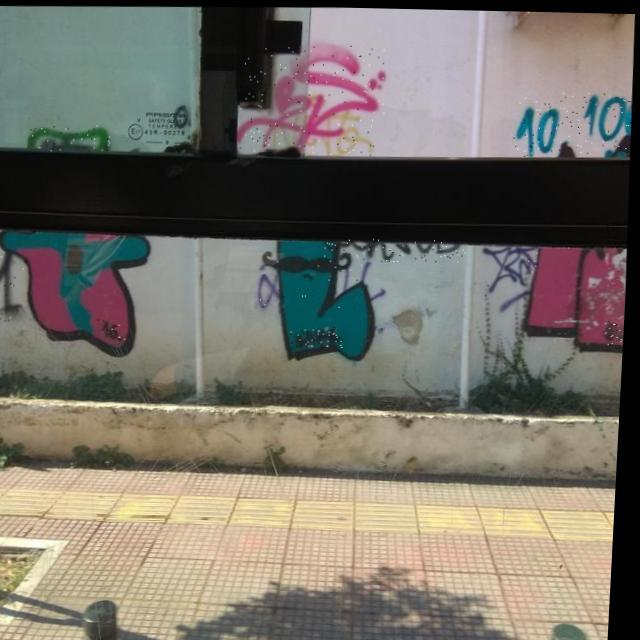-: (238, 40, 388, 154), (513, 88, 634, 156), (268, 90, 382, 156), (258, 258, 392, 312), (479, 240, 541, 310), (324, 234, 470, 262), (29, 124, 114, 152), (0, 253, 28, 322), (293, 324, 348, 347), (100, 318, 129, 341), (606, 316, 628, 342)
